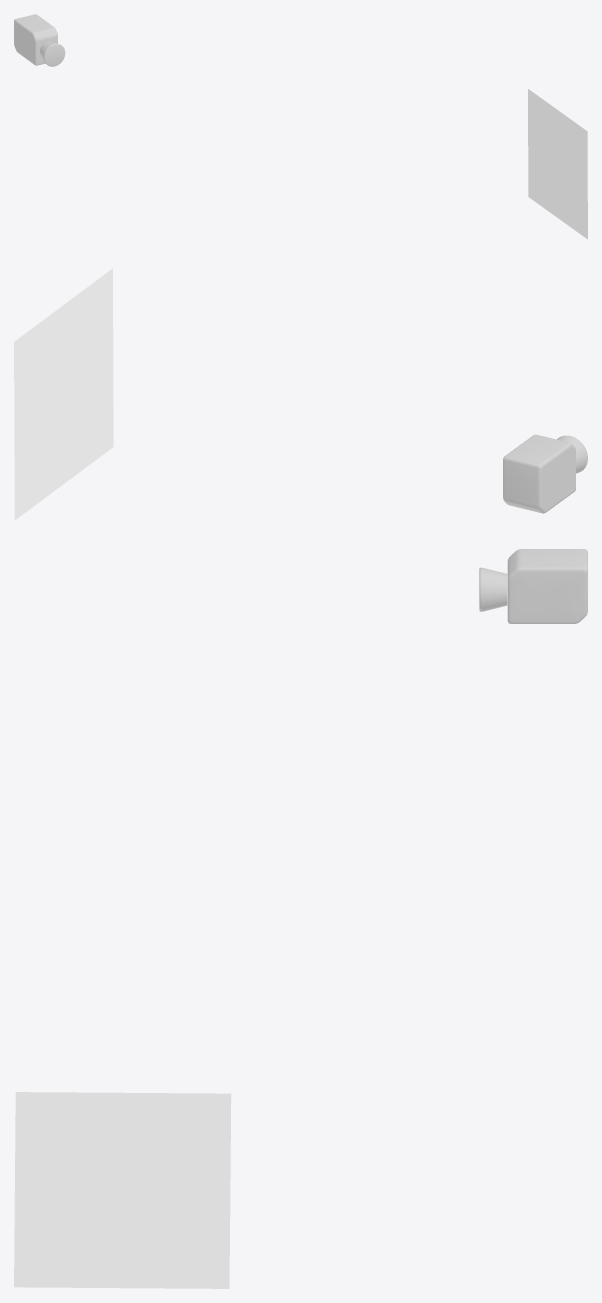
The model's file is camera-controls_v023.glb.
3 views of the same model, one above another, from view 1: azimuth 30°, elevation 25°; view 2: azimuth 150°, elevation 25°; view 3: azimuth 270°, elevation 25° (orthographic). The views are drawn at different scales.
Parts seen in each view (by area): view 1: SelectionRing, CameraMarker; view 2: SelectionRing, CameraMarker; view 3: SelectionRing, CameraMarker.
Part boxes in pixels (left/top/right/bottom): SelectionRing: left=528, top=89, right=587, bottom=239; CameraMarker: left=14, top=14, right=65, bottom=66; SelectionRing: left=14, top=268, right=113, bottom=520; CameraMarker: left=503, top=434, right=587, bottom=513; SelectionRing: left=14, top=1092, right=231, bottom=1288; CameraMarker: left=479, top=549, right=587, bottom=623.
Size of the model in its own units: 3.14 by 1.49 by 2.08.
2 materials, 1 textured.
